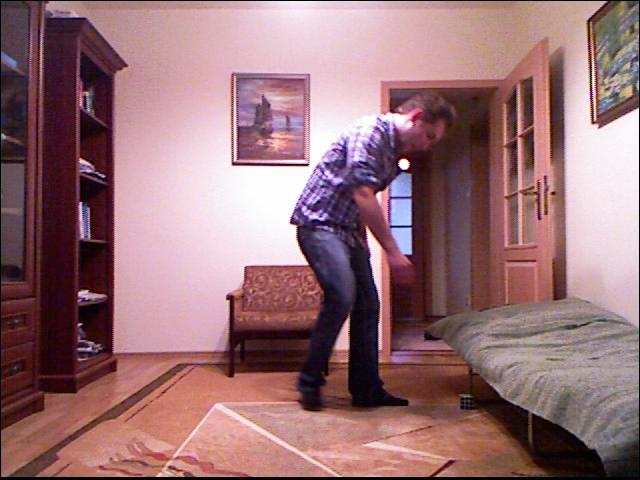bending: (275, 77, 483, 418)
